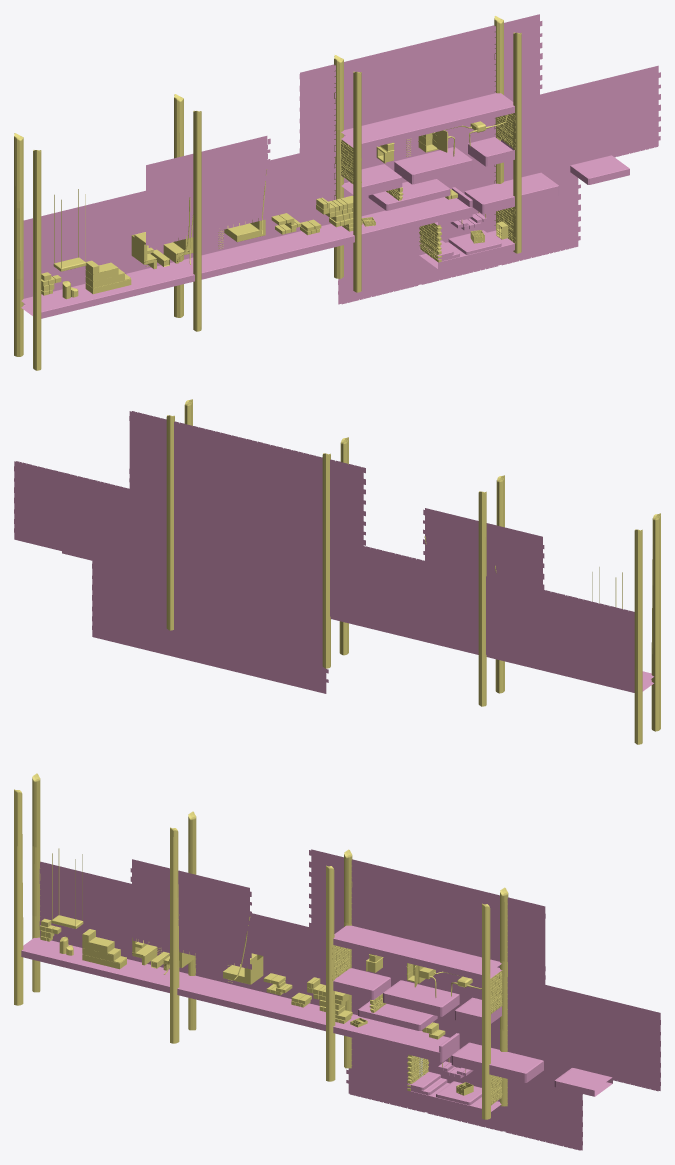
The model's file is Stage_Labo.fbx.
The picture shows the model from 3 angles, top to bottom: view 1: azimuth 30°, elevation 25°; view 2: azimuth 150°, elevation 25°; view 3: azimuth 330°, elevation 25°; orthographic projection. The views are drawn at different scales.
Visible parts, largest first — view 1: Wall.002, Ground, Piller, Wall, Cube.006, Wall.009, Wall.001, Cube.004, Ground.001, Cube.005, Cube.018; view 2: Wall.002, Piller, Wall, Ground; view 3: Wall.002, Ground, Piller, Wall, Wall.001, Cube.006, Wall.009, Ground.001, Cube.004, Cube.005.
Part boxes in pixels (<box>): Wall.002: <box>98,14,660,304</box>; Ground: <box>21,93,629,318</box>; Piller: <box>14,16,521,370</box>; Wall: <box>23,202,100,298</box>; Cube.006: <box>131,169,267,268</box>; Wall.009: <box>341,113,515,262</box>; Wall.001: <box>41,189,457,295</box>; Cube.004: <box>85,260,131,294</box>; Ground.001: <box>419,230,501,261</box>; Cube.005: <box>53,189,485,271</box>; Cube.018: <box>418,130,448,152</box>; Wall.002: <box>14,411,562,693</box>; Piller: <box>166,399,660,744</box>; Wall: <box>560,594,634,690</box>; Ground: <box>62,551,653,692</box>; Wall.002: <box>112,849,660,1150</box>; Ground: <box>21,925,612,1114</box>; Piller: <box>14,773,508,1119</box>; Wall: <box>39,861,114,947</box>; Wall.001: <box>39,918,445,1039</box>; Cube.006: <box>132,914,263,984</box>; Wall.009: <box>332,945,502,1105</box>; Ground.001: <box>407,1072,481,1105</box>; Cube.004: <box>82,929,126,969</box>; Cube.005: <box>51,848,465,1072</box>.
Size of the model in its own units: 20167 by 7426 by 1253.
